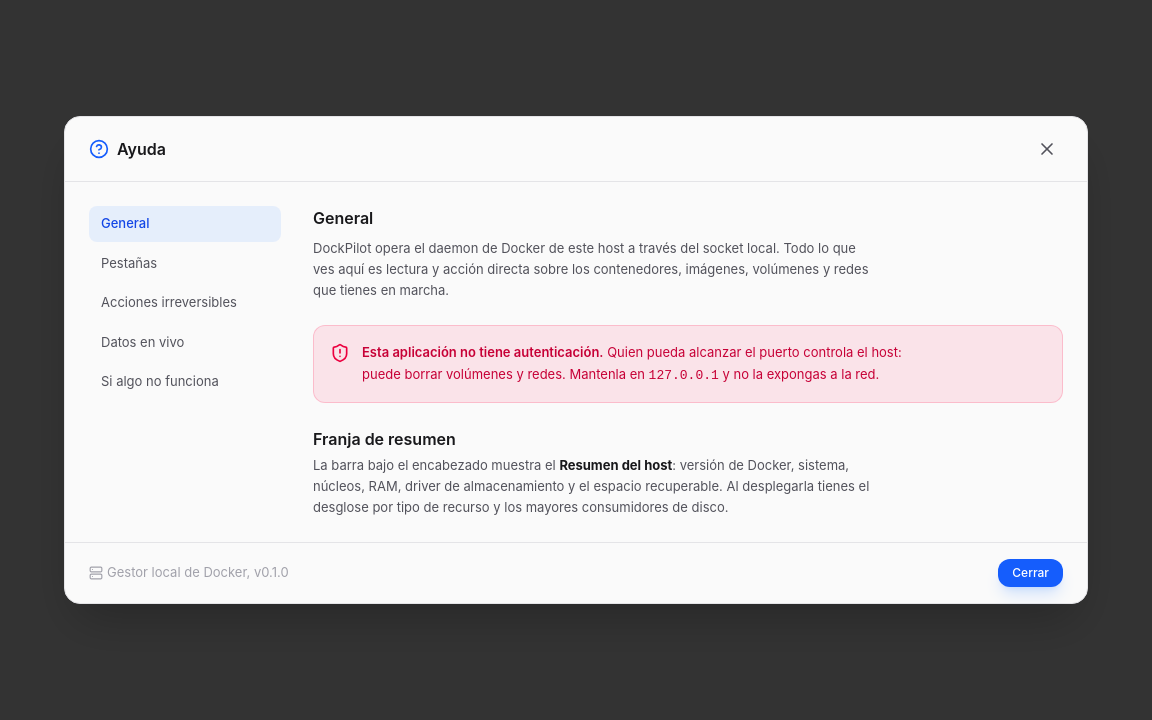
Test: HelpModal › documenta la pestaña de proyectos y lo que se puede hacer en ella
Click the button "Pestañas".
click(185, 263)  # box [89,246,281,281]
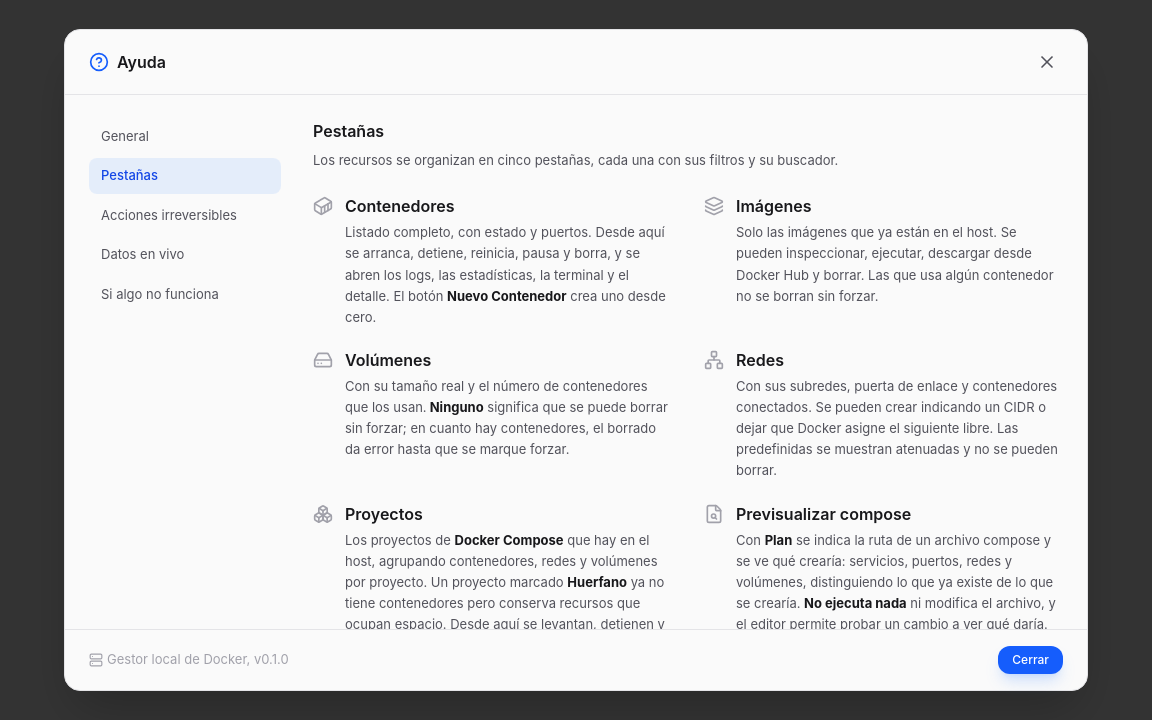
Check: the text "Huerfano" is shown, box [567,574,627,590]
Check: the text "No ejecuta nada" is shown, box [804,595,907,611]
